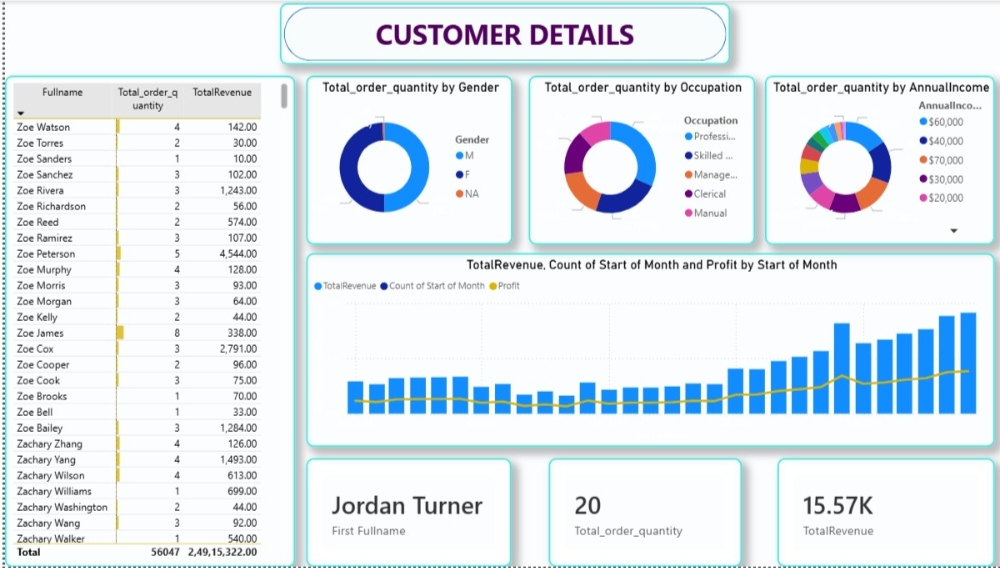

The dashboard page shown, as its layout file describes it:
{"tool":"powerbi","page":{"name":"Customer Detail","canvas":[1325,750],"ordinal":1},"visuals":[{"type":"tableEx","fields":{"Values":["Customers_Dim.Fullname","Dax_measure.Total_order_quantity","Dax_measure.TotalRevenue"]},"box":[0,99.4,384.4,651.2],"z":0},{"type":"donutChart","fields":{"Category":["Customers_Dim.Gender"],"Y":["Dax_measure.Total_order_quantity"]},"box":[399.3,99.4,273.4,223.7],"z":1000},{"type":"donutChart","fields":{"Y":["Dax_measure.Total_order_quantity"],"Category":["Customers_Dim.Occupation"]},"box":[694.2,99.4,299.9,223.7],"z":2000},{"type":"donutChart","fields":{"Category":["Customers_Dim.AnnualIncome"],"Y":["Dax_measure.Total_order_quantity"]},"box":[1007.4,99.4,304.9,223.7],"z":3000},{"type":"lineStackedColumnComboChart","fields":{"Y2":["Dax_measure.Profit"],"Y":["Dax_measure.TotalRevenue","CountNonNull(Calendar_Dim.Start of Month)"],"Category":["Calendar_Dim.Start of Month"]},"box":[399.3,334.7,912.9,256.8],"z":4000},{"type":"cardVisual","fields":{"Data":["Min(Customers_Dim.Fullname)"]},"box":[400,606,272,144],"z":5000},{"type":"cardVisual","fields":{"Data":["Dax_measure.Total_order_quantity"]},"box":[720,606,256,144],"z":6000},{"type":"cardVisual","fields":{"Data":["Dax_measure.TotalRevenue"]},"box":[1024,606,288,144],"z":7000},{"type":"shape","box":[364.5,3.3,596.5,81.2],"z":8000}]}

Visuals, with their boxes in screenshot pixels (x1, y1, x2, y2), scaled from the page's 1325x750 canvas onto the 1000x568 screenshot:
tableEx - Customers_Dim.Fullname x Dax_measure.Total_order_quantity: <region>0, 75, 290, 567</region>
donutChart - Customers_Dim.Gender x Dax_measure.Total_order_quantity: <region>301, 75, 508, 245</region>
donutChart - Dax_measure.Total_order_quantity x Customers_Dim.Occupation: <region>524, 75, 750, 245</region>
donutChart - Customers_Dim.AnnualIncome x Dax_measure.Total_order_quantity: <region>760, 75, 990, 245</region>
lineStackedColumnComboChart - Dax_measure.Profit x Dax_measure.TotalRevenue: <region>301, 253, 990, 448</region>
cardVisual - Min(Customers_Dim.Fullname): <region>302, 459, 507, 567</region>
cardVisual - Dax_measure.Total_order_quantity: <region>543, 459, 737, 567</region>
cardVisual - Dax_measure.TotalRevenue: <region>773, 459, 990, 567</region>
shape: <region>275, 2, 725, 64</region>
